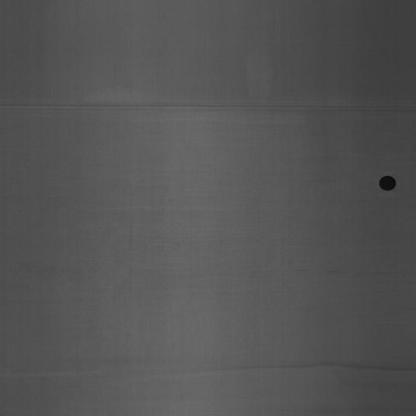punching_hole: (376, 170, 398, 194)
welding_line: (4, 89, 413, 123)
